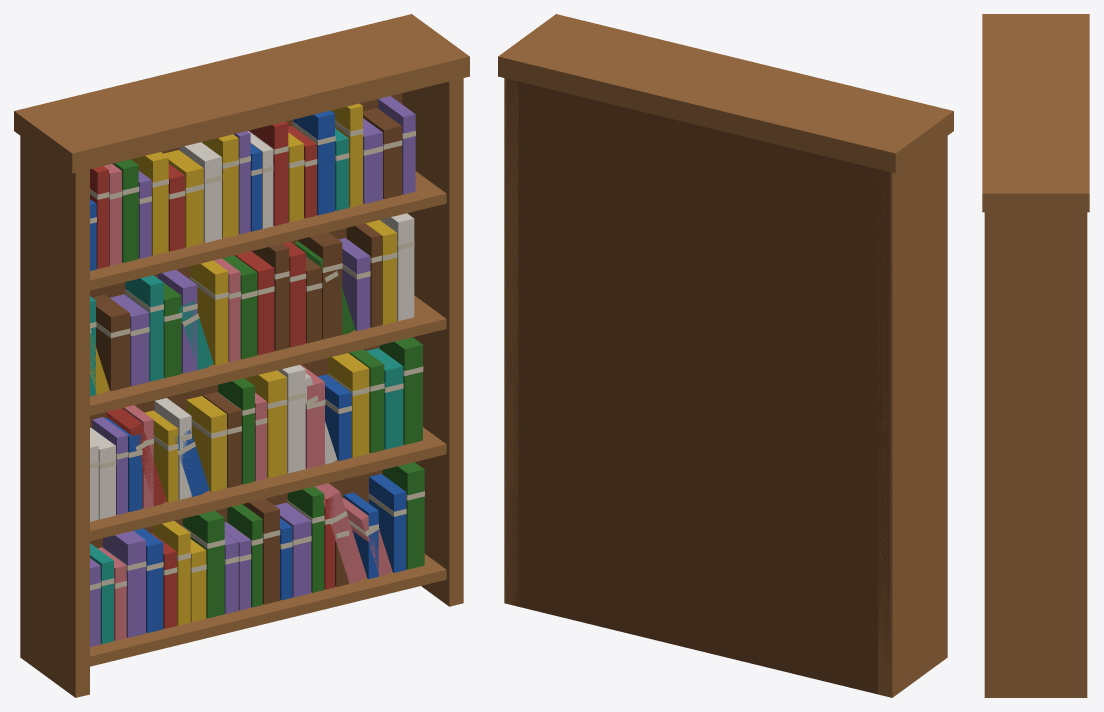
File: bookcase.glb
3 views of the same model, side by side, from view 1: azimuth 30°, elevation 25°; view 2: azimuth 150°, elevation 25°; view 3: azimuth 270°, elevation 25° (orthographic). The views are drawn at different scales.
Visible parts, largest first — view 1: furniture-bookcase; view 2: furniture-bookcase; view 3: furniture-bookcase.
Boxes of the visible parts, left/top/right/bottom form: furniture-bookcase: left=14, top=14, right=469, bottom=697; furniture-bookcase: left=498, top=14, right=953, bottom=697; furniture-bookcase: left=982, top=14, right=1089, bottom=697.
Bounding box in the file's own units: 1.66 × 2.18 × 0.4199.
